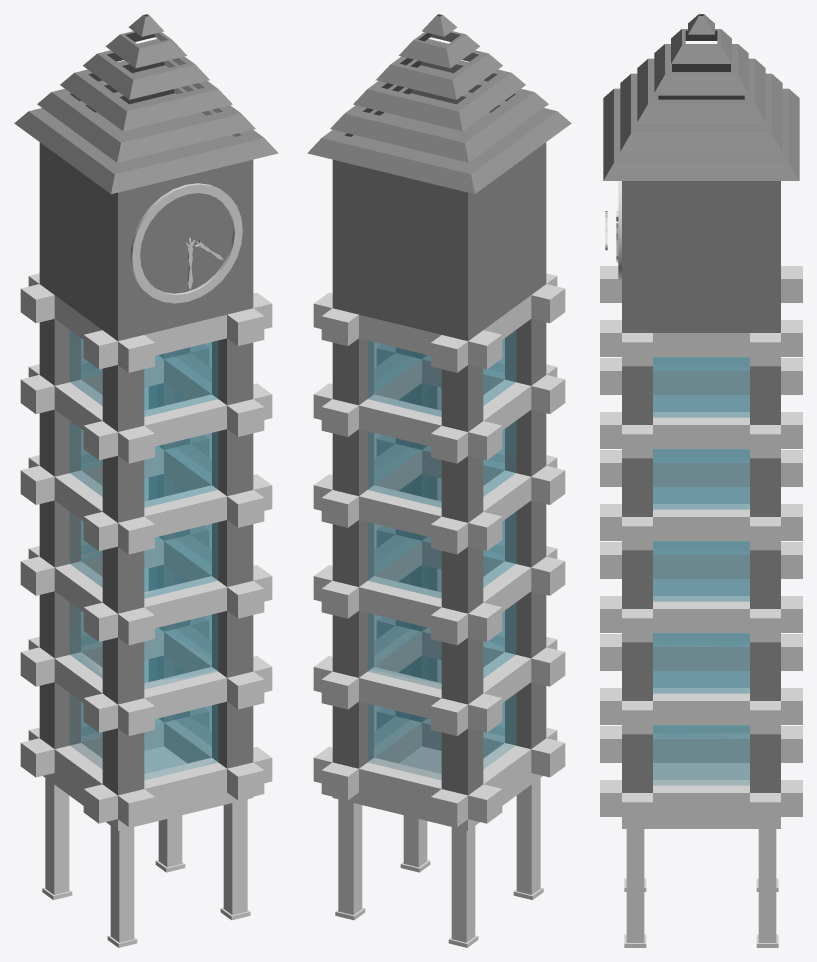
The picture shows the model from 3 angles, left to right: view 1: azimuth 30°, elevation 25°; view 2: azimuth 150°, elevation 25°; view 3: azimuth 270°, elevation 25°; orthographic projection.
Visible parts, largest first — view 1: Rectangle151, Rectangle152, Rectangle153, Rectangle154, Rectangle136, Rectangle135, Rectangle137, Rectangle139, Rectangle138, Circle001, Rectangle155, Rectangle047 (+84 smaller); view 2: Rectangle151, Rectangle152, Rectangle153, Rectangle154, Rectangle141, Rectangle140, Rectangle142, Rectangle144, Rectangle143, Rectangle155, Rectangle053, Rectangle056 (+83 smaller); view 3: Rectangle151, Rectangle152, Rectangle153, Rectangle146, Rectangle147, Rectangle148, Rectangle149, Rectangle150, Rectangle154, Rectangle035, Rectangle036, Rectangle037 (+65 smaller).
Part boxes in pixels (x1=…): Rectangle151: x1=39, y1=93, x2=253, y2=340; Rectangle152: x1=14, y1=87, x2=278, y2=194; Rectangle153: x1=37, y1=65, x2=255, y2=162; Rectangle154: x1=60, y1=59, x2=232, y2=131; Rectangle136: x1=144, y1=431, x2=218, y2=507; Rectangle135: x1=144, y1=340, x2=218, y2=416; Rectangle137: x1=144, y1=522, x2=218, y2=598; Rectangle139: x1=144, y1=704, x2=218, y2=779; Rectangle138: x1=144, y1=613, x2=218, y2=688; Circle001: x1=130, y1=183, x2=242, y2=303; Rectangle155: x1=83, y1=39, x2=209, y2=99; Rectangle047: x1=144, y1=757, x2=226, y2=809; Rectangle151: x1=332, y1=93, x2=546, y2=340; Rectangle152: x1=307, y1=87, x2=571, y2=194; Rectangle153: x1=330, y1=65, x2=548, y2=162; Rectangle154: x1=353, y1=59, x2=525, y2=131; Rectangle141: x1=367, y1=431, x2=441, y2=507; Rectangle140: x1=367, y1=340, x2=441, y2=416; Rectangle142: x1=367, y1=522, x2=441, y2=598; Rectangle144: x1=367, y1=704, x2=441, y2=779; Rectangle143: x1=367, y1=613, x2=441, y2=688; Rectangle155: x1=376, y1=39, x2=502, y2=99; Rectangle053: x1=359, y1=757, x2=441, y2=809; Rectangle056: x1=359, y1=485, x2=441, y2=537; Rectangle151: x1=622, y1=122, x2=780, y2=332; Rectangle152: x1=603, y1=88, x2=799, y2=180; Rectangle153: x1=620, y1=73, x2=782, y2=151; Rectangle146: x1=653, y1=357, x2=749, y2=417; Rectangle147: x1=653, y1=449, x2=749, y2=509; Rectangle148: x1=653, y1=541, x2=749, y2=601; Rectangle149: x1=653, y1=633, x2=749, y2=693; Rectangle150: x1=653, y1=725, x2=749, y2=785; Rectangle154: x1=637, y1=58, x2=765, y2=122; Rectangle035: x1=653, y1=726, x2=749, y2=762; Rectangle036: x1=653, y1=634, x2=749, y2=670; Rectangle037: x1=653, y1=542, x2=749, y2=578.
Size of the model in its own units: 4600 by 22535 by 4600.
